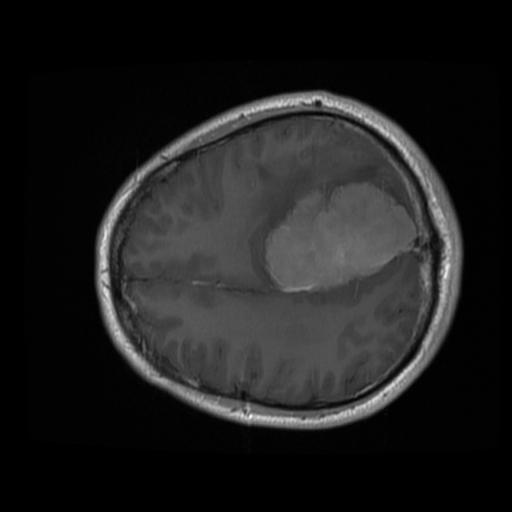meningioma: (261, 183, 415, 292)
